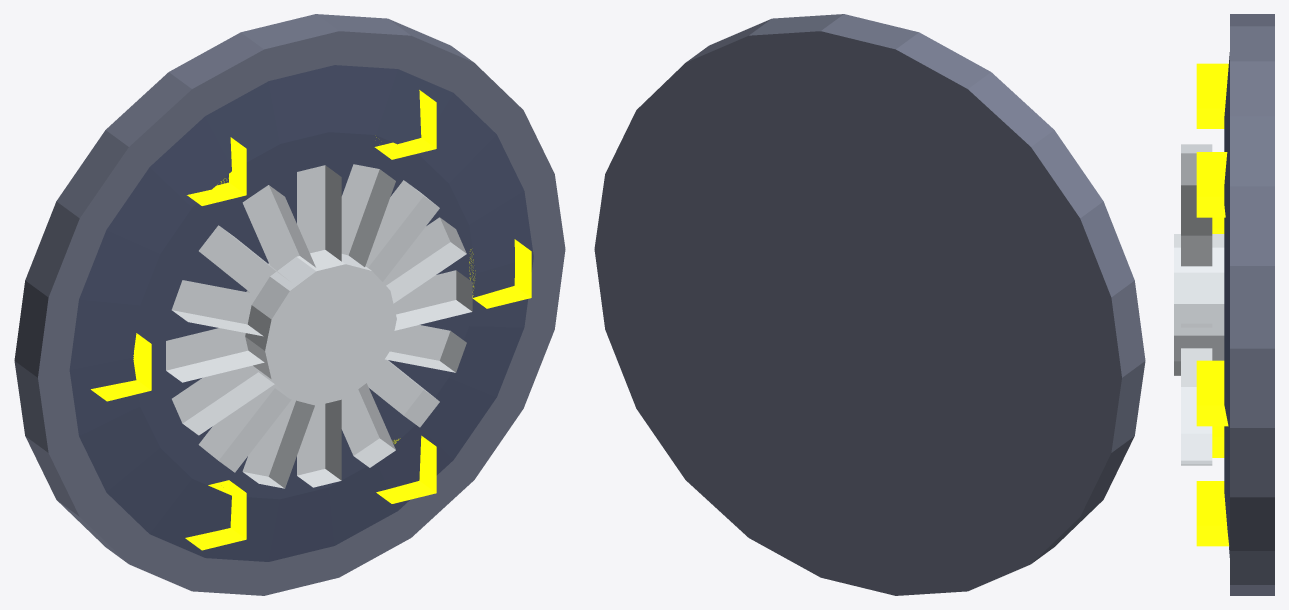
Rendered from vault-breakers-vault-door.glb.
3 renders of one model, left to right at view 1: azimuth 30°, elevation 25°; view 2: azimuth 150°, elevation 25°; view 3: azimuth 270°, elevation 25°, orthographic. The views are drawn at different scales.
Visible parts, largest first — view 1: disc, rim, wheel, statusLeds; view 2: rim; view 3: rim, wheel, statusLeds, disc.
Part boxes in pixels (<box>): disc: <box>69,65,533,561</box>; rim: <box>14,14,565,595</box>; wheel: <box>166,164,472,488</box>; statusLeds: <box>91,90,531,550</box>; rim: <box>594,14,1145,595</box>; rim: <box>1230,14,1274,595</box>; wheel: <box>1174,144,1224,465</box>; statusLeds: <box>1196,63,1228,546</box>; disc: <box>1224,52,1229,557</box>.
Bounding box in the file's own units: 0.52 × 0.5147 × 0.09.
